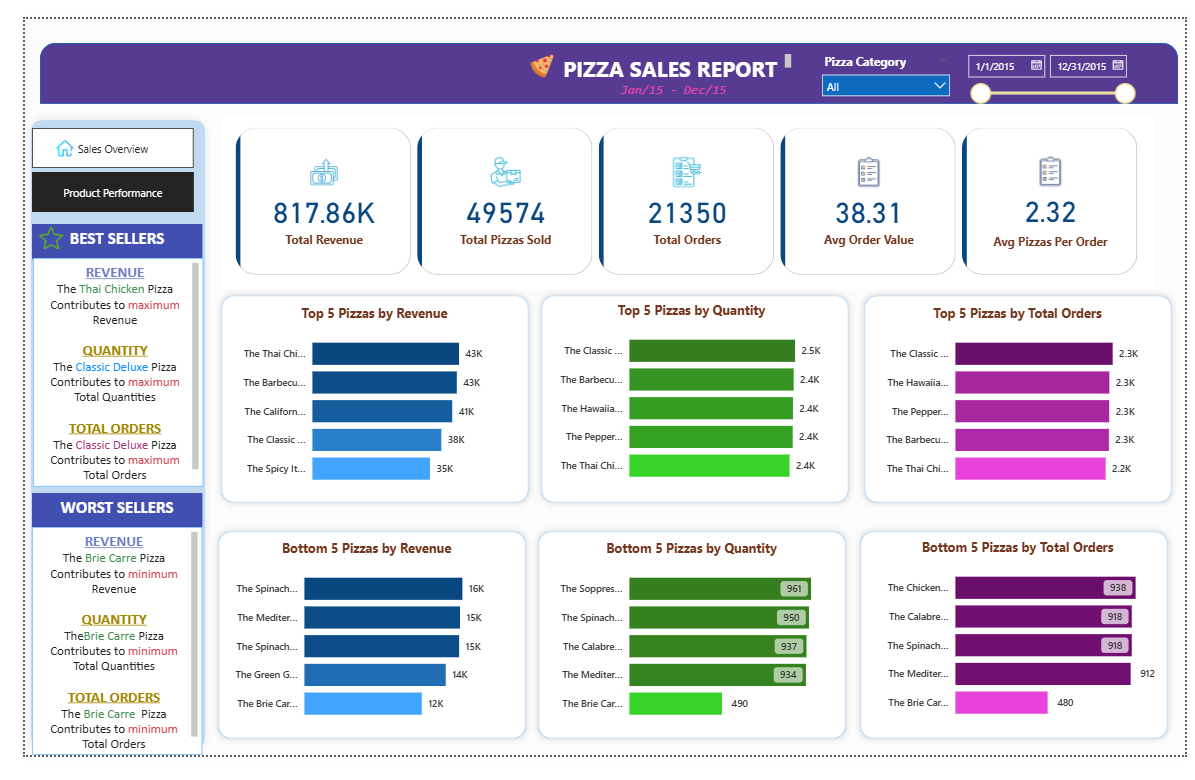

The page's visual inventory and layout, read from the dashboard file:
{"tool":"powerbi","page":{"name":"Best/Worst Sellers","canvas":[1450,920],"ordinal":1},"visuals":[{"type":"cardVisual","fields":{"Data":["pizza_sales.Total Revenue","pizza_sales.Total Pizzas Sold","pizza_sales.Total Orders","pizza_sales.Avg Order Value","pizza_sales.Avg Pizzas Per Order"]},"box":[246.2,118.8,1165,218.8],"z":0},{"type":"shape","box":[18.8,30,1422.5,76.2],"z":1000},{"type":"textbox","box":[658.8,38.8,303.8,40],"z":2000},{"type":"textbox","box":[738.8,73.8,143.8,32.5],"z":3000},{"type":"image","box":[626.2,43.8,40,30],"z":4000},{"type":"shape","box":[237.5,337.5,400,275],"z":5000},{"type":"shape","box":[0,118.8,232.5,801.2],"z":6000},{"type":"textbox","box":[8.8,263.8,212.5,42.5],"z":7000},{"type":"textbox","box":[8.8,306.2,212.5,306.2],"z":8000},{"type":"textbox","box":[8.8,621.2,212.5,42.5],"z":9000},{"type":"textbox","box":[8.8,663.8,212.5,256.2],"z":10000},{"type":"slicer","fields":{"Values":["pizza_sales.pizza_category"]},"box":[986.2,37.5,180,68.8],"z":11000},{"type":"slicer","fields":{"Values":["pizza_sales.order_date"]},"box":[1166.2,35,230,83.8],"z":12000},{"type":"shape","box":[637.5,337.5,400,275],"z":13000},{"type":"shape","box":[1041.2,337.5,400,275],"z":14000},{"type":"shape","box":[233.8,632.5,400,275],"z":15000},{"type":"shape","box":[633.8,632.5,400,275],"z":16000},{"type":"shape","box":[1036.2,632.5,400,275],"z":17000},{"type":"clusteredBarChart","title":"Top 5 Pizzas by Revenue","fields":{"Category":["pizza_sales.pizza_name"],"Y":["pizza_sales.Total Revenue"]},"box":[256.2,356.2,361.2,240],"z":18000},{"type":"clusteredBarChart","title":"Bottom 5 Pizzas by Revenue","fields":{"Category":["pizza_sales.pizza_name"],"Y":["pizza_sales.Total Revenue"]},"box":[246.2,650,361.2,240],"z":19000},{"type":"clusteredBarChart","title":"Top 5 Pizzas by Quantity","fields":{"Category":["pizza_sales.pizza_name"],"Y":["pizza_sales.Total Pizzas Sold"]},"box":[652.5,352.5,361.2,240],"z":20000},{"type":"clusteredBarChart","title":"Bottom 5 Pizzas by Quantity","fields":{"Category":["pizza_sales.pizza_name"],"Y":["pizza_sales.Total Pizzas Sold"]},"box":[652.5,650,361.2,240],"z":21000},{"type":"clusteredBarChart","title":"Top 5 Pizzas by Total Orders","fields":{"Category":["pizza_sales.pizza_name"],"Y":["pizza_sales.Total Orders"]},"box":[1060,356.2,361.2,240],"z":22000},{"type":"clusteredBarChart","title":"Bottom 5 Pizzas by Total Orders","fields":{"Category":["pizza_sales.pizza_name"],"Y":["pizza_sales.Total Orders"]},"box":[1060,648.8,361.2,240],"z":23000},{"type":"pageNavigator","box":[8.8,136.2,202.5,50],"z":24000},{"type":"image","box":[8.8,270,47.5,30],"z":24500},{"type":"pageNavigator","box":[8.8,203.8,202.5,50],"z":25000},{"type":"image","box":[25,151.2,50,21.2],"z":27000}]}

Visuals, with their boxes in screenshot pixels (x1, y1, x2, y2), scaled from the page's 1450x920 canvas onto the 1195x780 screenshot:
cardVisual - pizza_sales.Total Revenue x pizza_sales.Total Pizzas Sold: crop(203, 101, 1163, 286)
shape: crop(15, 25, 1188, 90)
textbox: crop(543, 33, 793, 67)
textbox: crop(609, 63, 727, 90)
image: crop(516, 37, 549, 63)
shape: crop(196, 286, 525, 519)
shape: crop(0, 101, 192, 779)
textbox: crop(7, 224, 182, 260)
textbox: crop(7, 260, 182, 519)
textbox: crop(7, 527, 182, 563)
textbox: crop(7, 563, 182, 779)
slicer - pizza_sales.pizza_category: crop(813, 32, 961, 90)
slicer - pizza_sales.order_date: crop(961, 30, 1151, 101)
shape: crop(525, 286, 855, 519)
shape: crop(858, 286, 1188, 519)
shape: crop(193, 536, 522, 769)
shape: crop(522, 536, 852, 769)
shape: crop(854, 536, 1184, 769)
"Top 5 Pizzas by Revenue" clusteredBarChart: crop(211, 302, 509, 505)
"Bottom 5 Pizzas by Revenue" clusteredBarChart: crop(203, 551, 501, 755)
"Top 5 Pizzas by Quantity" clusteredBarChart: crop(538, 299, 835, 502)
"Bottom 5 Pizzas by Quantity" clusteredBarChart: crop(538, 551, 835, 755)
"Top 5 Pizzas by Total Orders" clusteredBarChart: crop(874, 302, 1171, 505)
"Bottom 5 Pizzas by Total Orders" clusteredBarChart: crop(874, 550, 1171, 754)
pageNavigator: crop(7, 115, 174, 158)
image: crop(7, 229, 46, 254)
pageNavigator: crop(7, 173, 174, 215)
image: crop(21, 128, 62, 146)
